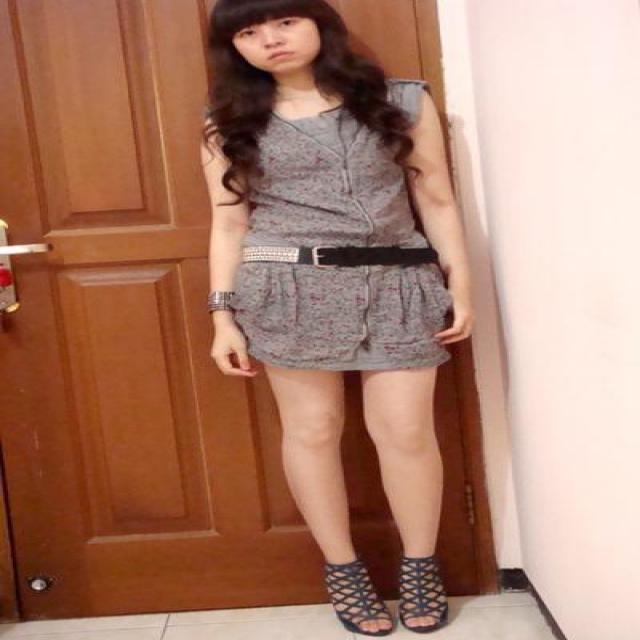dress: (213, 83, 461, 370)
shoe: (323, 546, 448, 636)
